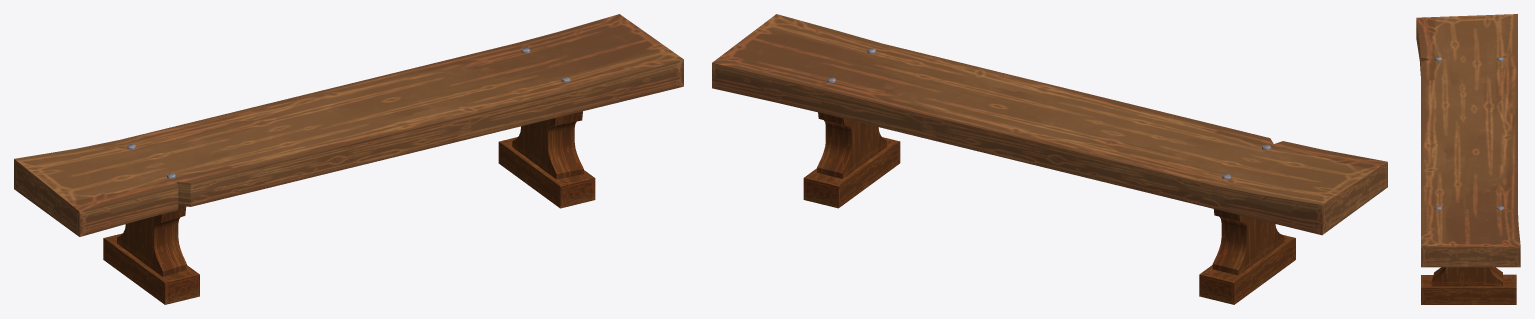
File: Bench.gltf
The picture shows the model from 3 angles, left to right: view 1: azimuth 30°, elevation 25°; view 2: azimuth 150°, elevation 25°; view 3: azimuth 270°, elevation 25°; orthographic projection. The views are drawn at different scales.
Visible parts, largest first — view 1: Bench; view 2: Bench; view 3: Bench.
Part boxes in pixels (bbox=[...]): Bench: bbox=[14, 14, 683, 304]; Bench: bbox=[712, 14, 1387, 304]; Bench: bbox=[1416, 14, 1520, 304].
Size of the model in its own units: 2.78 by 0.5332 by 0.5343.
2 materials, 2 textured.
